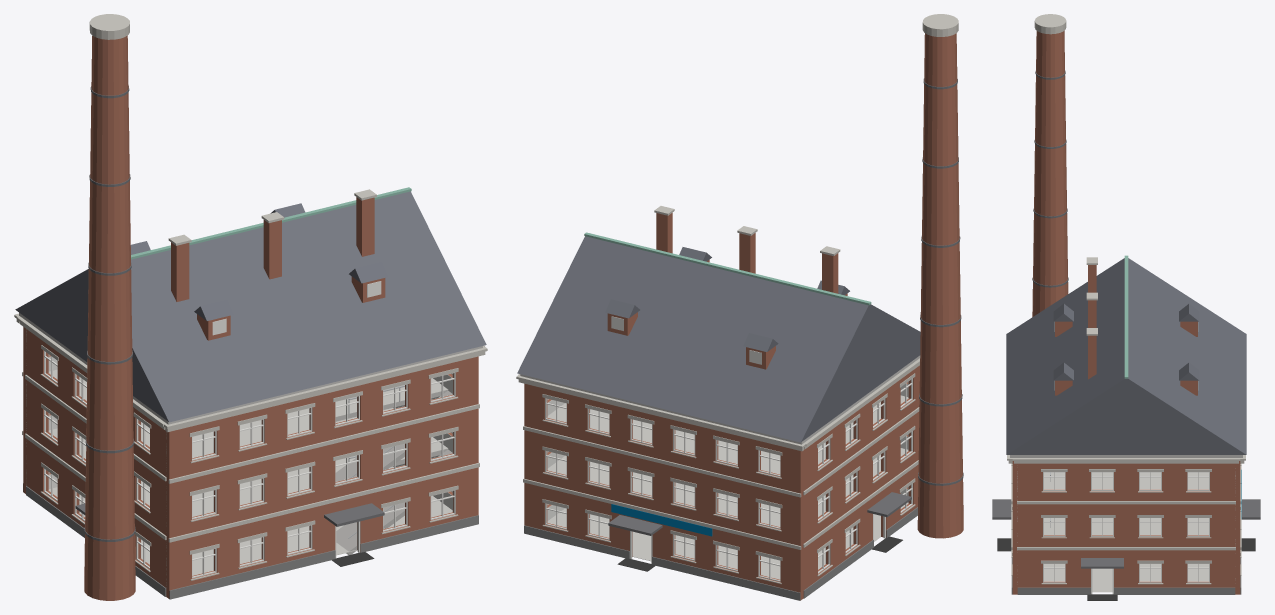
File: SM_Bygg_Kjelhuset.fbx
3 views of the same model, side by side, from view 1: azimuth 30°, elevation 25°; view 2: azimuth 150°, elevation 25°; view 3: azimuth 270°, elevation 25° (orthographic). The views are drawn at different scales.
Visible parts, largest first — view 1: SM_Bygg_Kjelhuset; view 2: SM_Bygg_Kjelhuset; view 3: SM_Bygg_Kjelhuset.
Boxes of the visible parts, x1,y1,x2,y2 form: SM_Bygg_Kjelhuset: [14, 14, 487, 600]; SM_Bygg_Kjelhuset: [516, 14, 963, 600]; SM_Bygg_Kjelhuset: [992, 14, 1260, 600].
Bounding box in the file's own units: 21.2 × 27.7 × 38.89.
